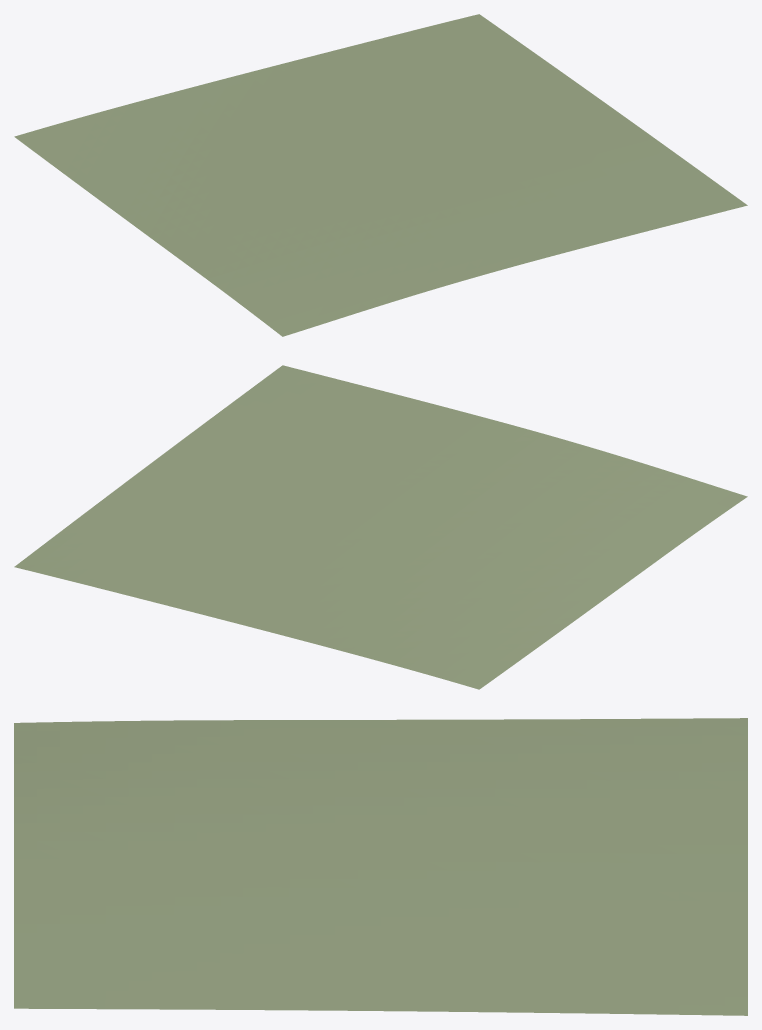
Rendered from desert-10-17.glb.
The picture shows the model from 3 angles, top to bottom: view 1: azimuth 30°, elevation 25°; view 2: azimuth 150°, elevation 25°; view 3: azimuth 270°, elevation 25°; orthographic projection. The views are drawn at different scales.
Visible parts, largest first — view 1: desert-10-17; view 2: desert-10-17; view 3: desert-10-17.
Part boxes in pixels (x1,y1,x2,y2): desert-10-17: (14,14,747,336); desert-10-17: (14,365,747,689); desert-10-17: (14,718,747,1015).
Bounding box in the file's own units: 512 × 18.78 × 512.
